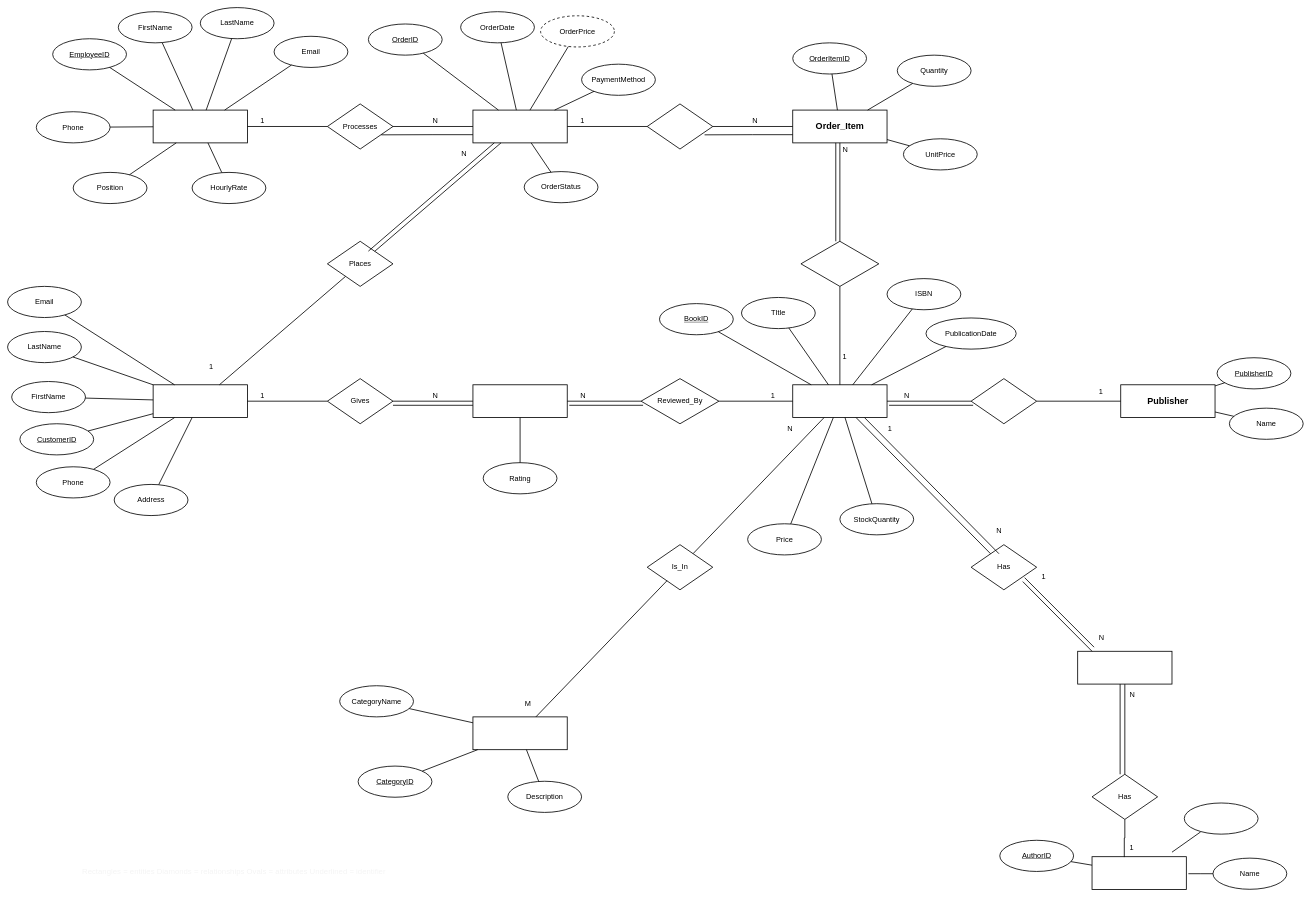
Some shapes in this 1310 by 897 pixel diagram are drawn without their labels. The shapes that lost their labels are listed below. From the top down, each one's box as (x1, y1, x2, y2) in pixels, then its label:
(153, 109, 248, 143): Employee
(472, 109, 567, 143): Order
(647, 103, 713, 149): Contains
(800, 241, 879, 287): Selected_As
(153, 384, 248, 418): Customer
(472, 384, 567, 418): BookRating
(792, 384, 887, 418): Book
(970, 378, 1037, 424): Publishes
(1077, 651, 1172, 684): BookAuthor
(472, 716, 567, 750): Category
(1184, 802, 1258, 834): Bio
(1091, 856, 1187, 890): Author
